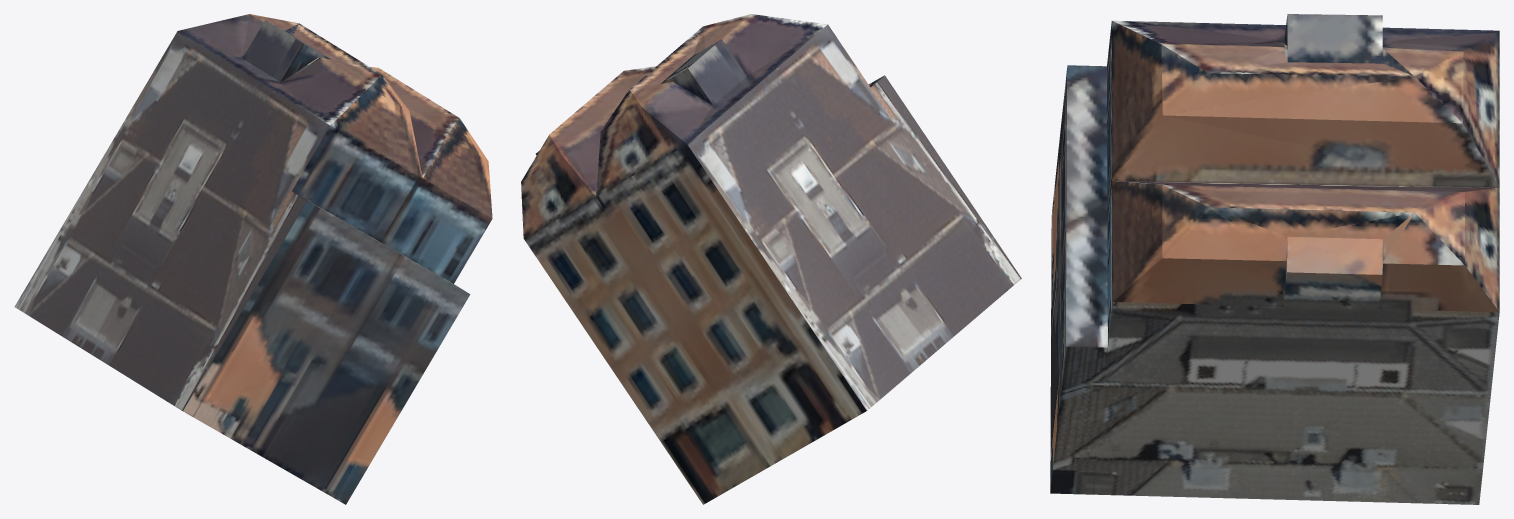
3 renders of one model, left to right at view 1: azimuth 30°, elevation 25°; view 2: azimuth 150°, elevation 25°; view 3: azimuth 270°, elevation 25°, orthographic. The views are drawn at different scales.
Visible parts, largest first — view 1: BAG_0599100000688745 (×6); view 2: BAG_0599100000688745 (×6); view 3: BAG_0599100000688745 (×7).
Boxes of the visible parts, box(x1,y1,x2,y2) form: BAG_0599100000688745 (×6): box(14, 14, 492, 504); BAG_0599100000688745 (×6): box(521, 14, 1021, 504); BAG_0599100000688745 (×7): box(1050, 14, 1499, 504).
Size of the model in its own units: 17.38 by 17.94 by 13.89.
Materials: 1 (1 with a texture image).
